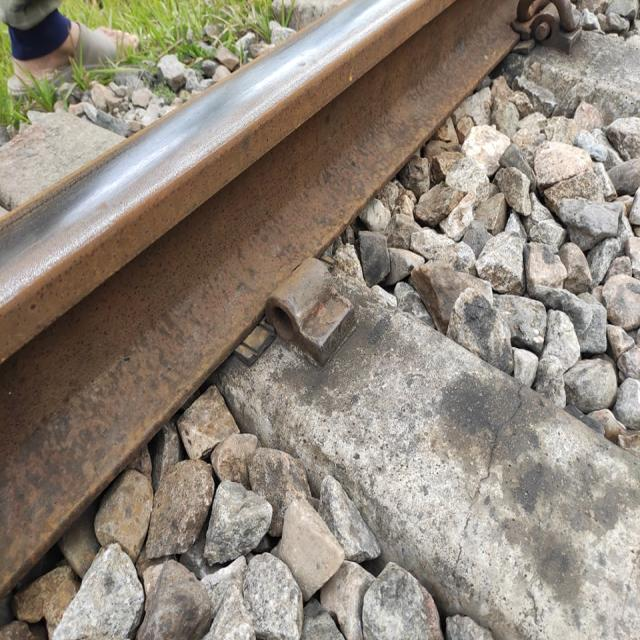Faults: (266, 258, 358, 366)
